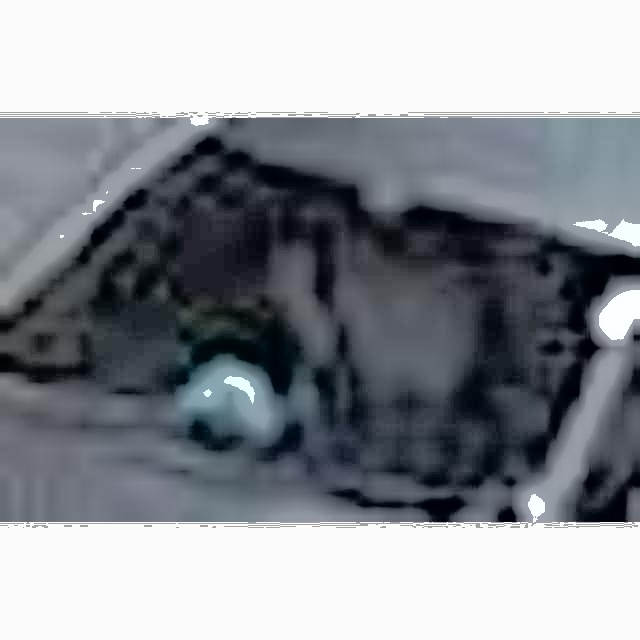pakai: (213, 230, 472, 410)
